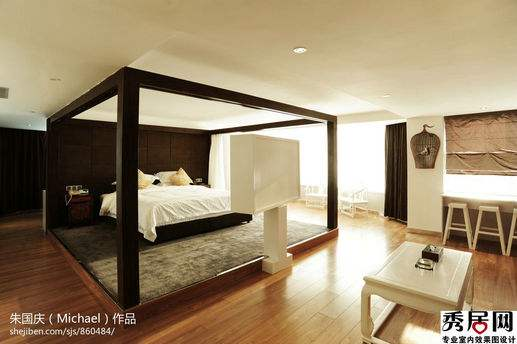床: (131, 176, 232, 237)
枕头: (141, 168, 191, 187)
灯: (288, 46, 308, 57), (381, 92, 394, 101)
